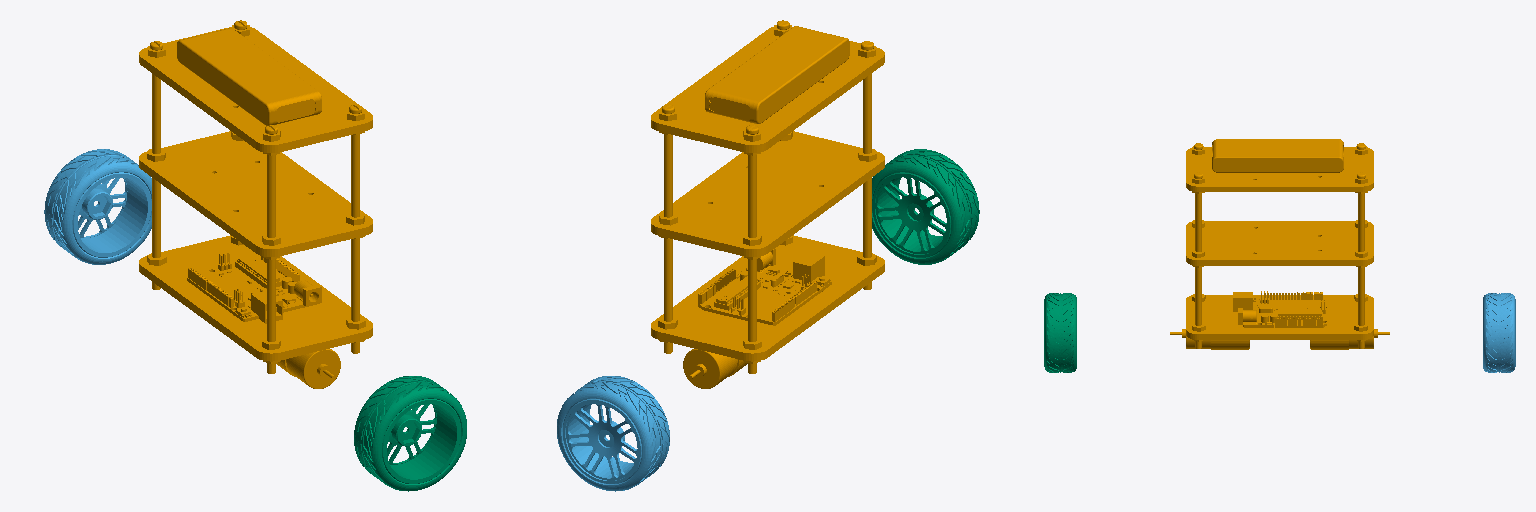
robot.urdf — Self_Balancing_Robot:
<?xml version = "1.0" ?>
<robot name = "Self_Balancing_Robot">
	<link name = "Chassis">
		<inertial>
			<origin xyz ="0.05896 0.08935 0.172" rpy = "0 0 0"/>
			<mass value = "0.388"/>
			<inertia ixx =".01687" iyy=".01517" izz=".05897" ixy=".02146" ixz =".04541" iyz = ".0102"/>
		</inertial>
		<collision>
			<geometry>
				
				<box size = "0.075 0.175 0.157"/> 
			</geometry> <!--
			<origin rpy = "0 0 0" xyz ="0 0 0.1101"/> -->
			<origin rpy = "0 0 0" xyz ="0 0 0.0"/> 
			
		</collision>
		<visual>
			<geometry>
				<!--<box size = "0.075 0.175 0.157"/> -->
				<mesh filename ="package://self_balancing_robot/meshes/Assem_No_wheelTiny.dae"/> 
				<!--<mesh filename ="package://self_balancing_robot/meshes/Assem2_No_Wheel.STL"/>-->
			</geometry>
			<origin rpy = "0 0 0" xyz ="0 0 0.0"/> 
			

		</visual>
	</link>
	
	<link name = "Right_Wheel">
		<inertial>
			<origin xyz ="0.00091 0.01535 0.07450" rpy = "0 0 0"/>
			<mass value ="0.03770"/>
			<inertia ixx ="0.000233" ixz = "0.000002560" iyy = "0.000236407" iyz = "0.000043120" ixy = "0.000000528" izz = "0.000024435"/>
		</inertial>
		<collision>
			<geometry>
			<cylinder radius="0.0316" length ="0.037"/>	
			
			</geometry>
			<!--
			<origin rpy = "0 0 0" xyz = "0 0.1100 0.0316"/> -->
			<origin rpy = "0 0 0" xyz = ".005 0.160 0.010"/> 

		</collision>
		<visual>
			<geometry>
			<mesh filename="package://self_balancing_robot/meshes/WheelZTiny.dae"/>
			</geometry>
			
			<origin rpy = "0 0 0" xyz = ".005 0.160 0.010"/>  
			
		</visual>
	</link>
	<joint name ="Right_wheel_Joint" type = "revolute">
		<parent link = "Chassis"/>
		<child link = "Right_Wheel"/>
		<origin xyz = "0 0.0875 0" rpy ="0 0 0.0"/>
		<limit effort="100" velocity="0.5"/>
        <axis xyz="0 1 0"/>
	</joint>
	
	<link name = "Left_Wheel">
		<inertial>
			<origin xyz ="0.00091 0.01535 0.07450" rpy = "0 0 0"/>
			<mass value ="0.03770"/>
			<inertia ixx ="0.000233" ixz = "0.000002560" iyy = "0.000236407" iyz = "0.000043120" ixy = "0.000000528" izz = "0.000024435"/>
		</inertial>
		<collision>
			<geometry>
			<cylinder radius="0.0316" length ="0.037"/>
			</geometry>
			
			<origin rpy = "0 0 0" xyz = "0.005 -0.015 0.010"/> 

		</collision>
		<visual>
			<geometry>
				<mesh filename="package://self_balancing_robot/meshes/WheelZTiny.dae"/>
			</geometry>
			
			<origin rpy = "0 0 0" xyz = "0.005 -0.015 0.010"/> 
			
		</visual>
	</link>
	<joint name ="Left_wheel_Joint" type = "revolute">
		<parent link = "Chassis"/>
		<child link = "Left_Wheel"/>
		<origin xyz = "0 -0.0875 0" rpy ="0 0 0.0"/>
		<limit effort="100" velocity="0.5"/>
        <axis xyz="0 1 0"/>
	</joint>


</robot>

--- Render facts (derived) ---
Views: 3 orthographic renders of the robot side by side, from view 1: azimuth 30°, elevation 25°; view 2: azimuth 150°, elevation 25°; view 3: azimuth 270°, elevation 25°.
Robot: Self_Balancing_Robot — 3 links, 2 joints (2 revolute); root link Chassis; default pose: every joint at zero.
Visible links, largest first — view 1: Chassis, Left_Wheel, Right_Wheel; view 2: Chassis, Right_Wheel, Left_Wheel; view 3: Chassis, Right_Wheel, Left_Wheel.
Link boxes in pixels (bbox=[...]): Chassis: bbox=[139, 20, 372, 388]; Left_Wheel: bbox=[354, 376, 466, 491]; Right_Wheel: bbox=[44, 149, 151, 264]; Chassis: bbox=[651, 20, 884, 388]; Right_Wheel: bbox=[557, 376, 669, 491]; Left_Wheel: bbox=[872, 149, 979, 264]; Chassis: bbox=[1170, 139, 1389, 349]; Right_Wheel: bbox=[1483, 293, 1515, 372]; Left_Wheel: bbox=[1044, 293, 1076, 372].
Size in the robot's own frame: 0.075 by 0.376 by 0.1923 metres.
3 mesh visuals loaded from 2 distinct referenced files (2 Collada DAE).